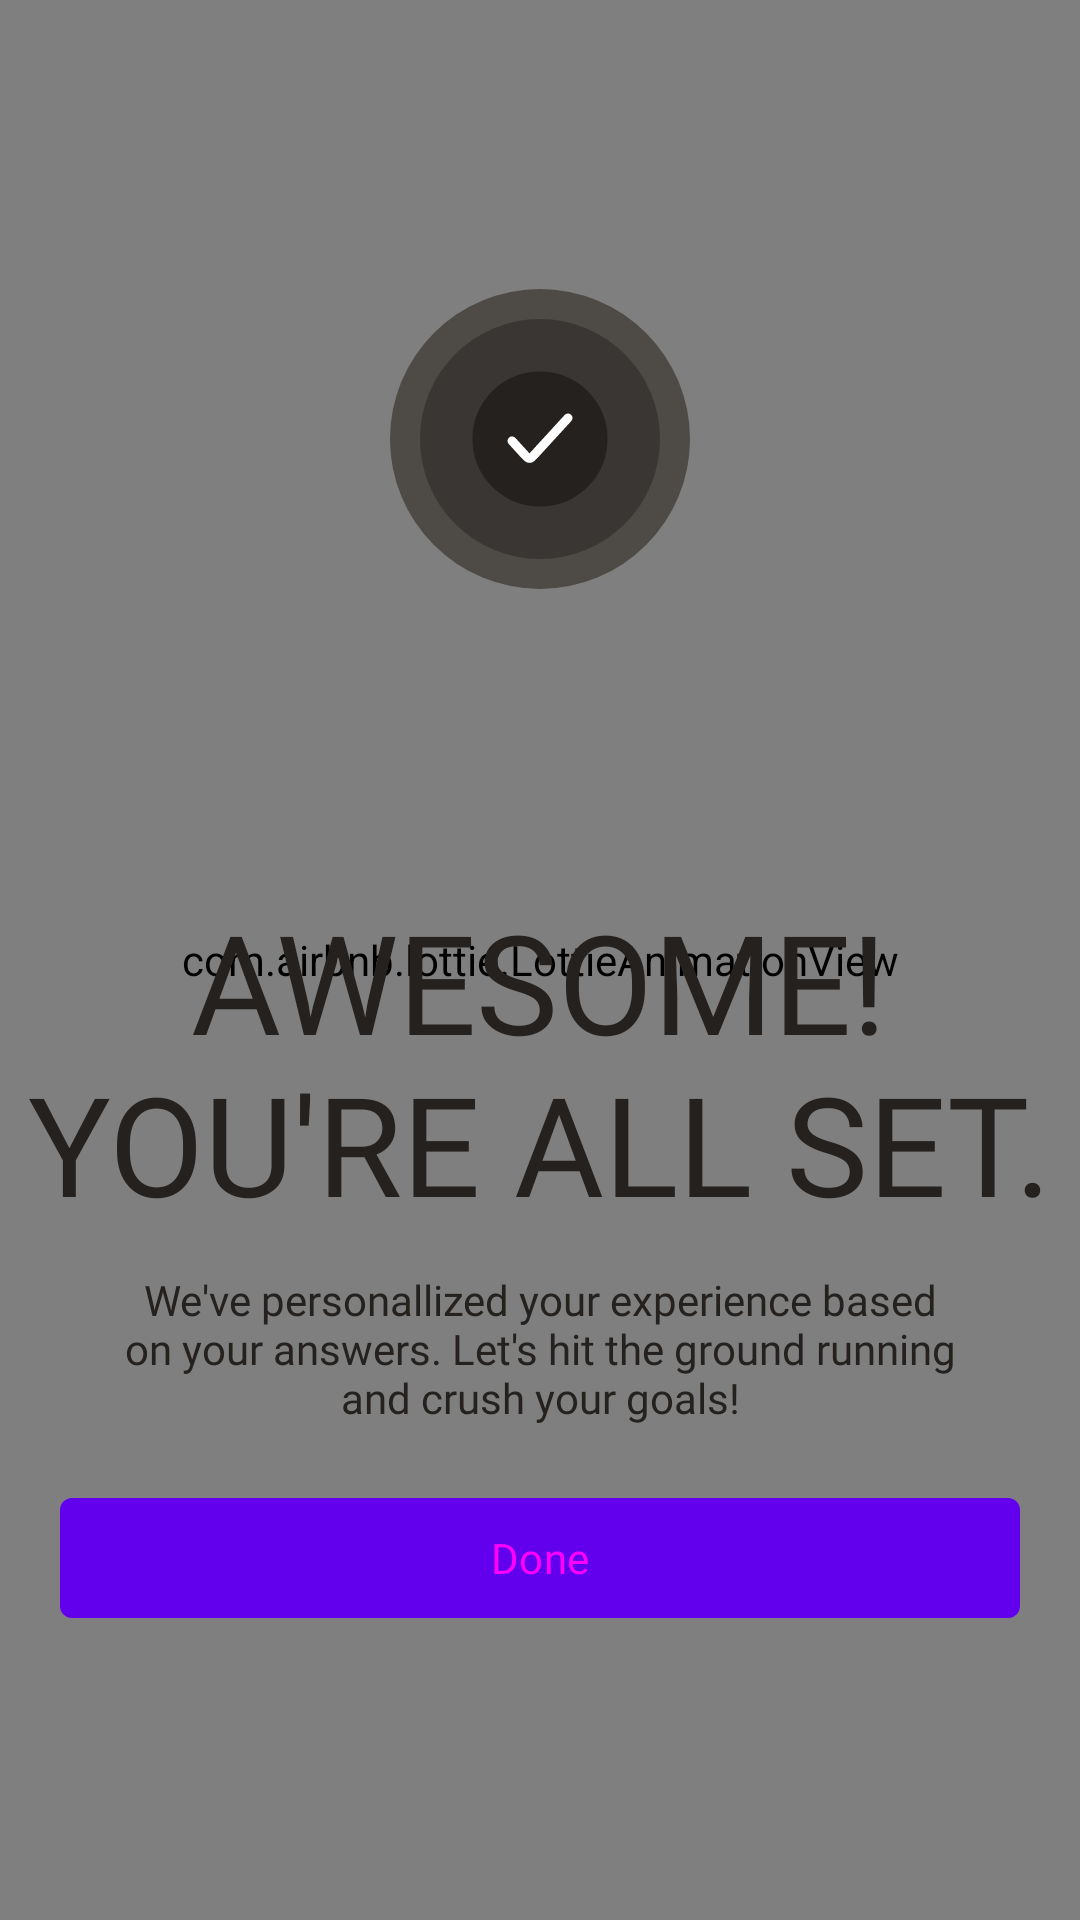

Named icons in this screenshot (1080x1920) and their bounding boxes, (x1, y1, x2, y2):
success: (390, 289, 690, 589)
